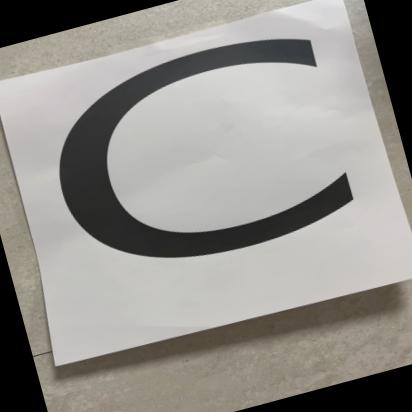seat: (0, 0, 412, 379)
